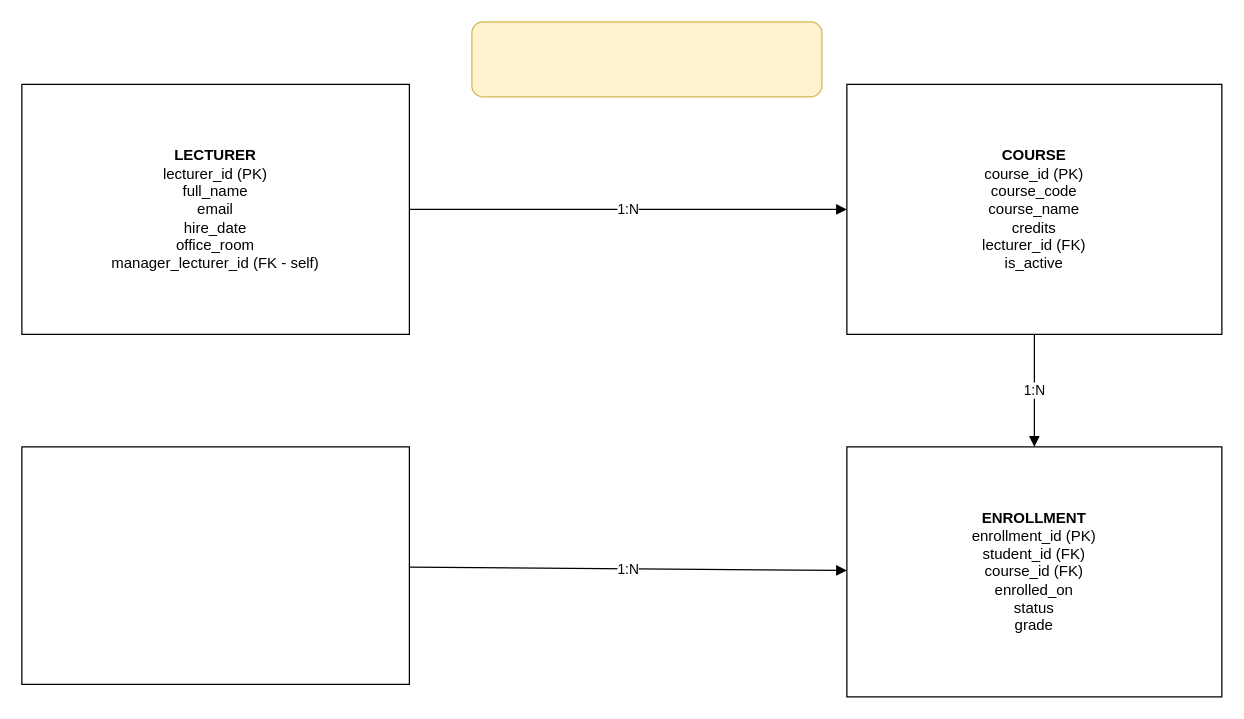
This 1244x719 diagram has some shape labels left out. The centre of each missing label's shape, as x and y in pixels:
STUDENT student_id (PK) first_name last_name email date_of_birth created_at: [215,565]
新增实体 LECTURER，包含 PK 与自关联 FK (manager_lecturer_id): [646,59]
